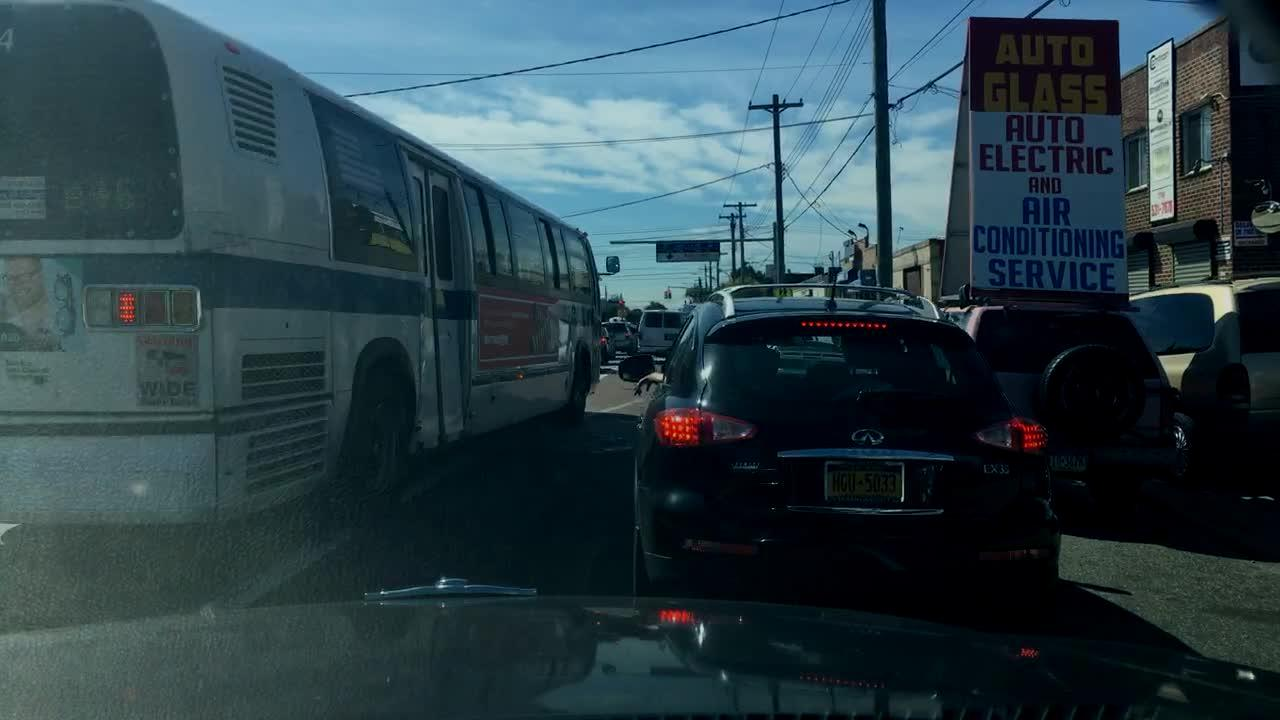Infiniti: (840, 422, 896, 455)
